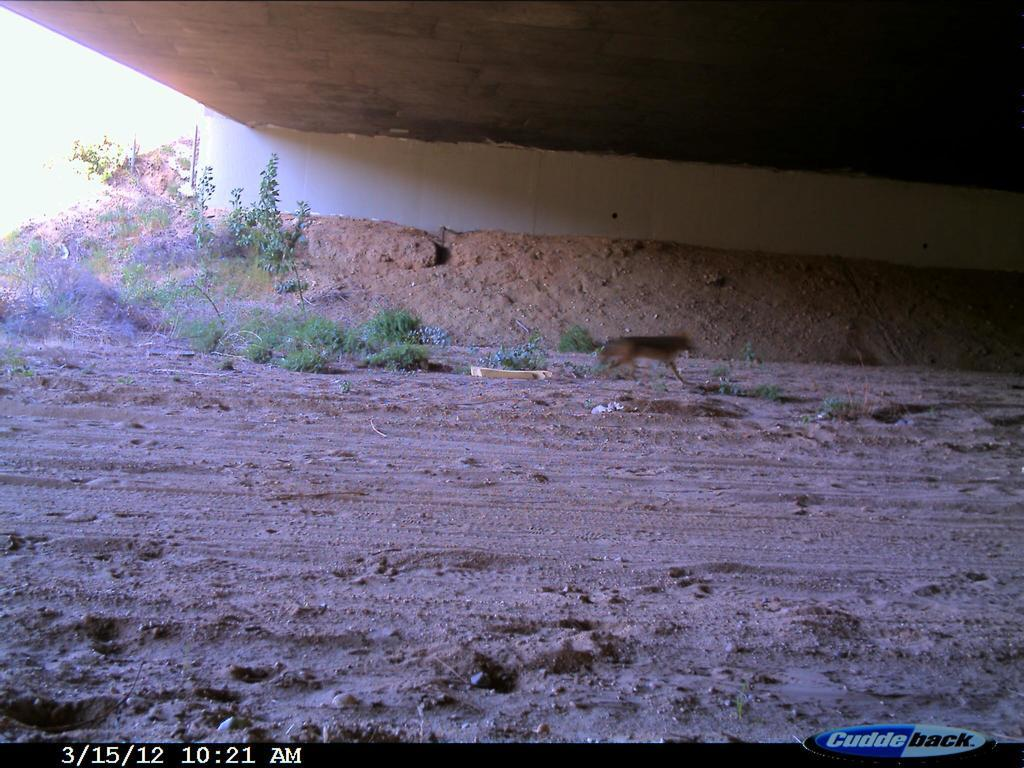coyote: (589, 322, 712, 392)
